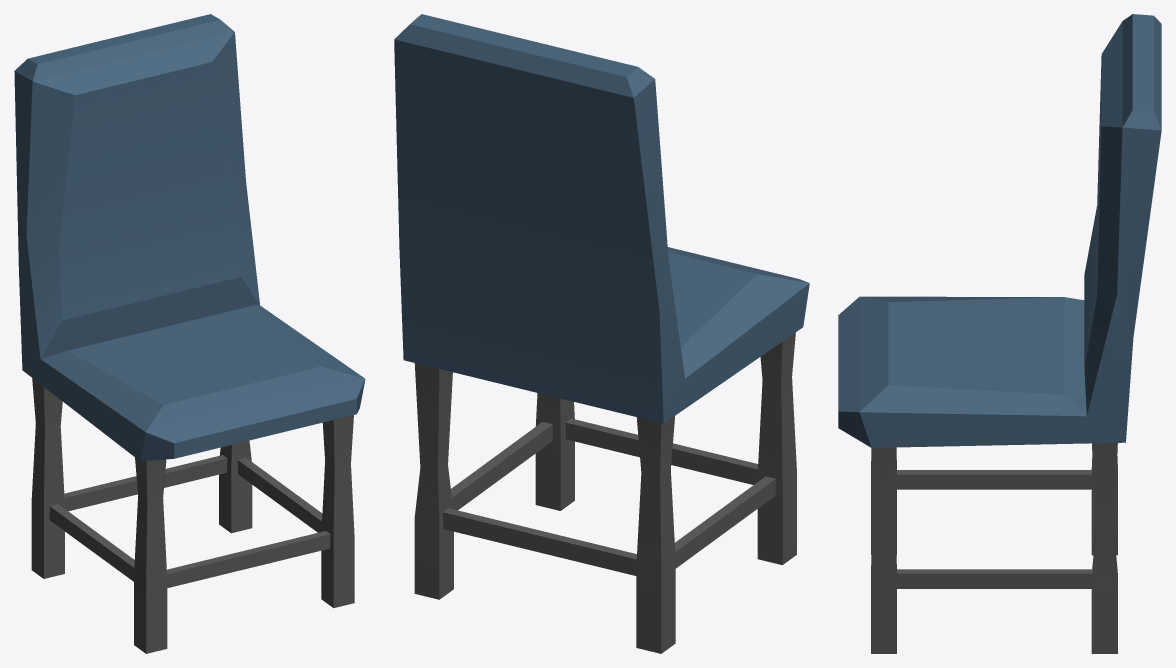
File: Prop_Seat_02.glb
3 views of the same model, side by side, from view 1: azimuth 30°, elevation 25°; view 2: azimuth 150°, elevation 25°; view 3: azimuth 270°, elevation 25° (orthographic). The views are drawn at different scales.
Parts seen in each view (by area): view 1: SM_Prop_Seat_02; view 2: SM_Prop_Seat_02; view 3: SM_Prop_Seat_02.
Part boxes in pixels (x1=…): SM_Prop_Seat_02: x1=14, y1=14, x2=365, y2=653; SM_Prop_Seat_02: x1=394, y1=14, x2=809, y2=653; SM_Prop_Seat_02: x1=838, y1=14, x2=1161, y2=653.
Bounding box in the file's own units: 0.5224 × 1.13 × 0.6174.
1 material, 1 textured.
